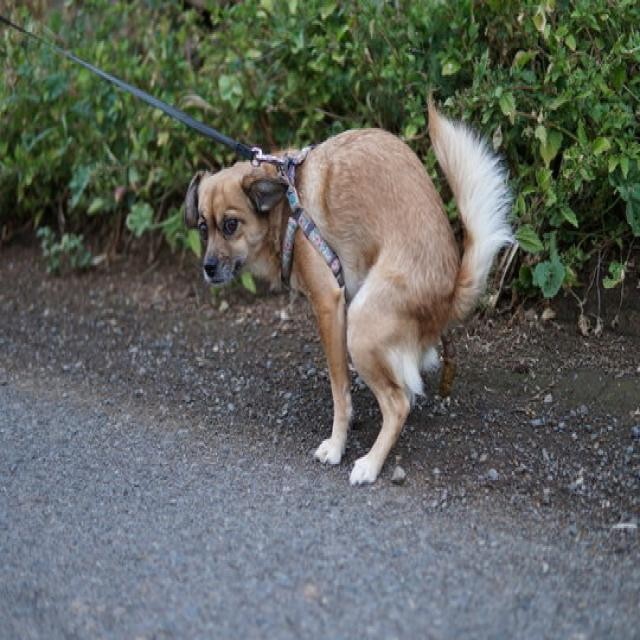Dogpoop: (190, 106, 520, 479)
